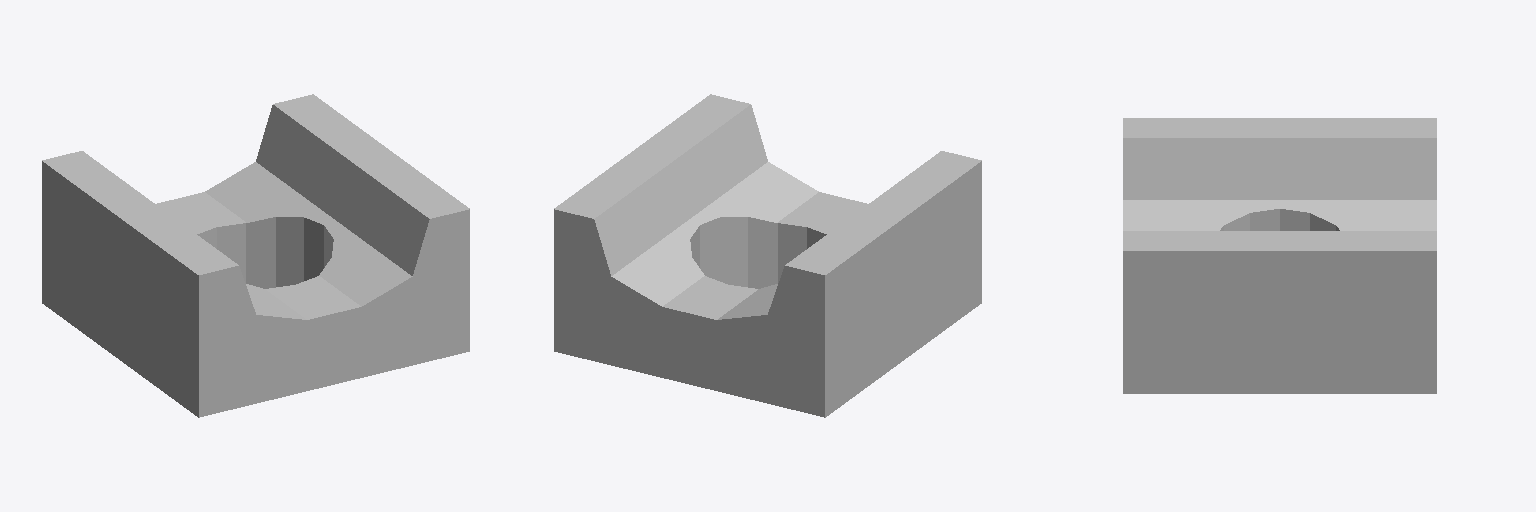
Rendered from straight-hole.obj.
The picture shows the model from 3 angles: view 1: azimuth 30°, elevation 25°; view 2: azimuth 150°, elevation 25°; view 3: azimuth 270°, elevation 25°; orthographic projection.
Parts seen in each view (by area): view 1: straight-hole; view 2: straight-hole; view 3: straight-hole.
Part boxes in pixels (x1,y1,x2,y2): straight-hole: (42,94,469,417); straight-hole: (554,94,981,417); straight-hole: (1123,118,1436,393).
Size of the model in its own units: 1 by 0.5 by 1.